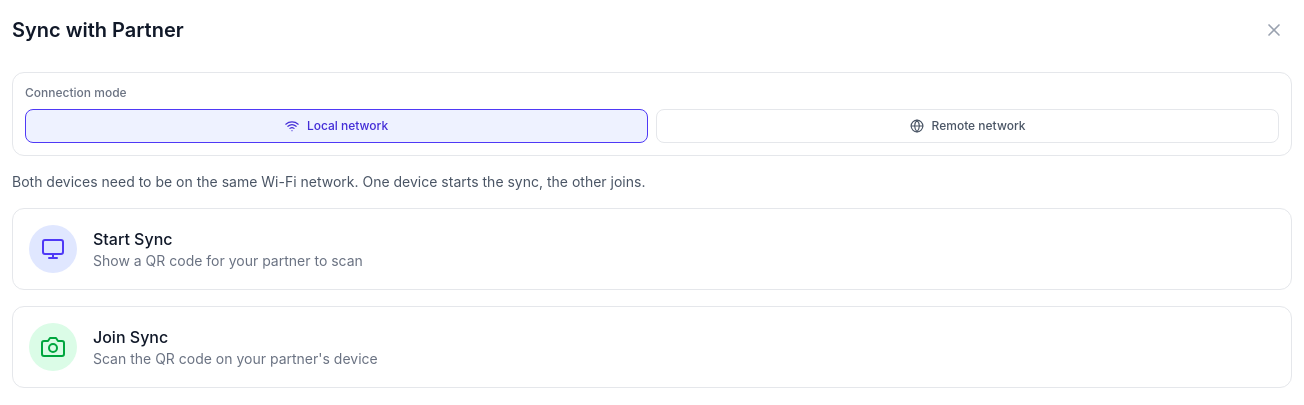
Test: SyncFlow › Initiator flow › shows error state when offer creation fails
This screenshot has width=1304, height=405.
What coordinates should you click on to do the following:
click the text "Start Sync"
I would click on:
 (133, 239)
Its box is [93, 229, 172, 249].
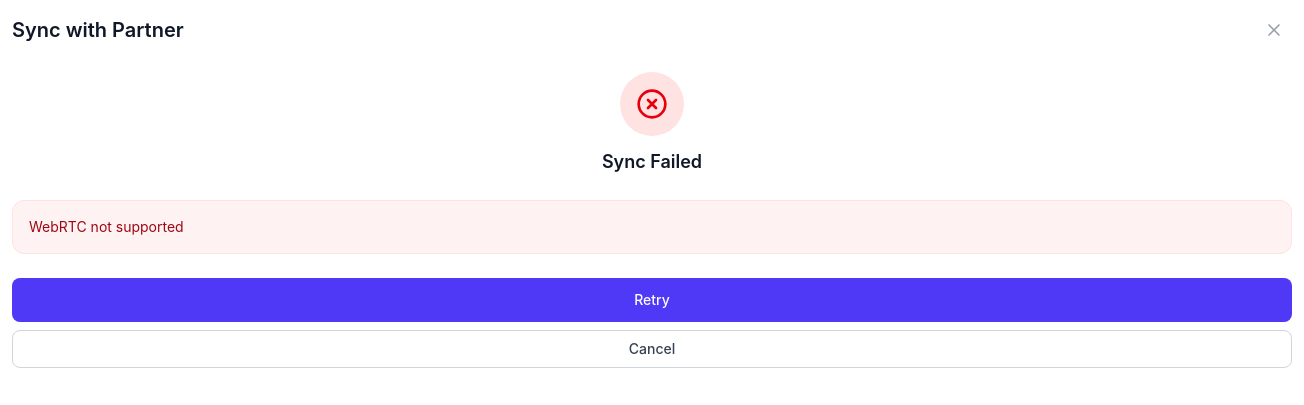
Expected: the heading "Sync Failed" is shown, [602, 148, 702, 176]
Expected: the text "WebRTC not supported" is shown, [29, 218, 184, 235]
Expected: the button "Retry" is shown, [12, 278, 1292, 322]
